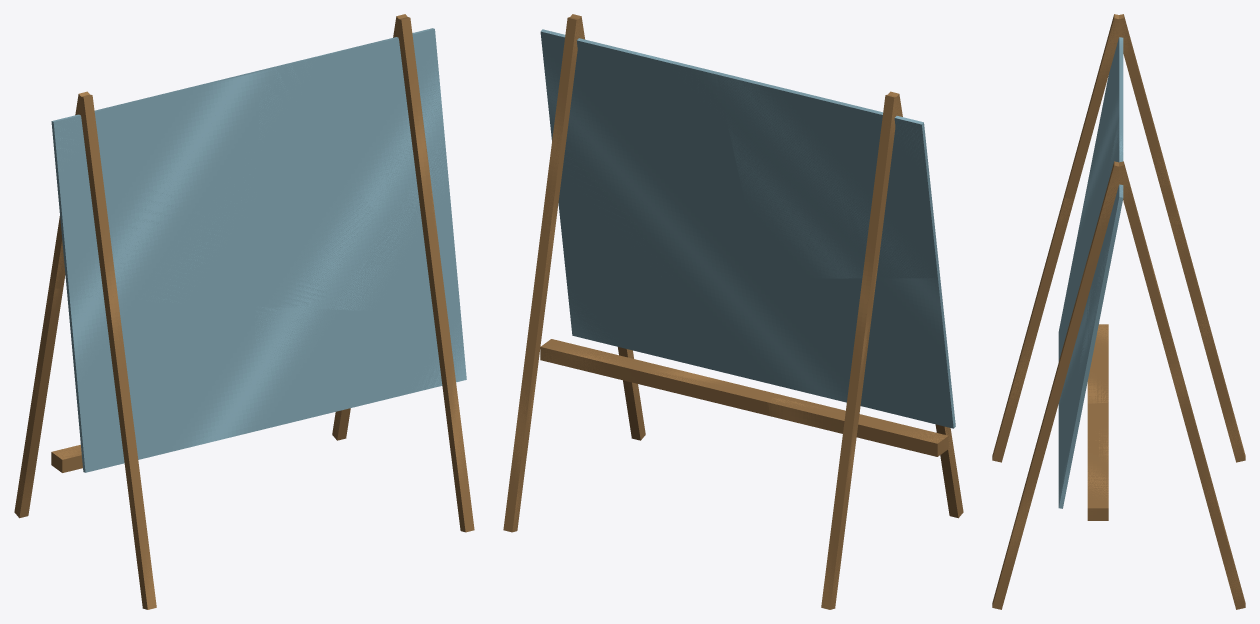
File: painel_vidro.glb
3 views of the same model, side by side, from view 1: azimuth 30°, elevation 25°; view 2: azimuth 150°, elevation 25°; view 3: azimuth 270°, elevation 25° (orthographic). The views are drawn at different scales.
Parts seen in each view (by area): view 1: Inteiro, Peca_03, Peca_02, Peca_00, Peca_01; view 2: Inteiro, Peca_01, Peca_00, Peca_02, Peca_03; view 3: Inteiro, Peca_00, Peca_03, Peca_02, Peca_01.
Part boxes in pixels (x1,y1,x2,y2): Inteiro: (14,14,474,609); Peca_03: (256,19,460,317); Peca_02: (255,306,474,531); Peca_00: (15,288,254,609); Peca_01: (51,95,254,305); Inteiro: (504,14,963,609); Peca_01: (717,75,937,332); Peca_00: (768,278,962,609); Peca_02: (503,280,772,531); Peca_03: (525,18,717,361); Inteiro: (992,14,1245,609); Peca_00: (992,198,1244,462); Peca_03: (1043,116,1202,460); Peca_02: (992,399,1245,609); Peca_01: (1065,18,1180,224).
Size of the model in its own units: 1.25 by 1.41 by 0.7274.
1 material, 1 textured.
